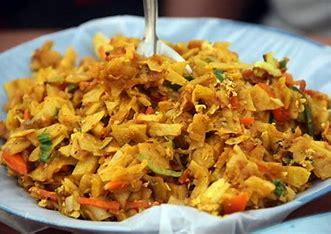Kottu: (9, 22, 325, 228)
